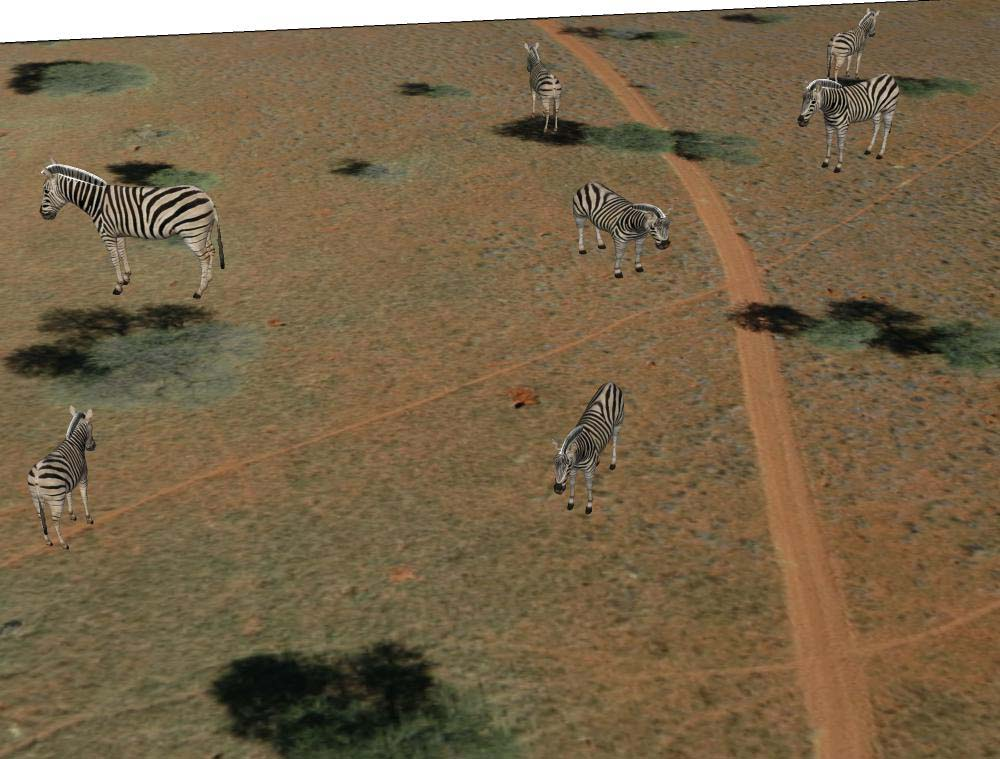zebra: (39, 156, 225, 304), (567, 170, 674, 286), (550, 381, 631, 513), (23, 405, 99, 543), (801, 70, 896, 175), (825, 7, 883, 80), (520, 39, 563, 137)
